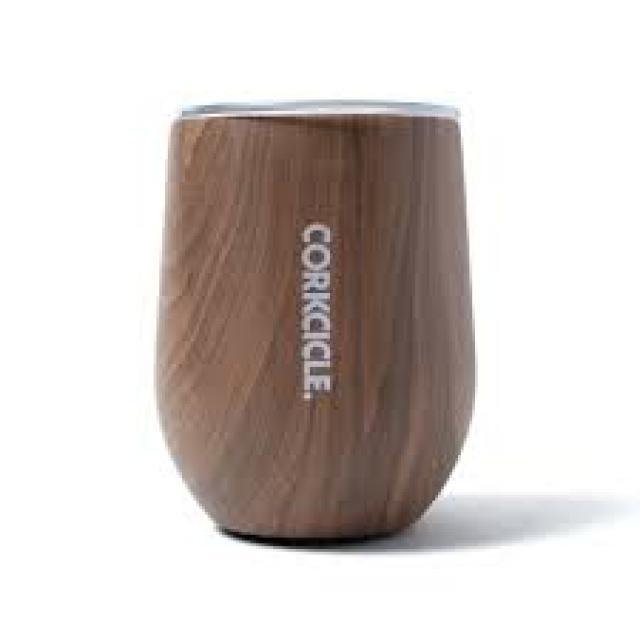bottle: (83, 41, 490, 534)
